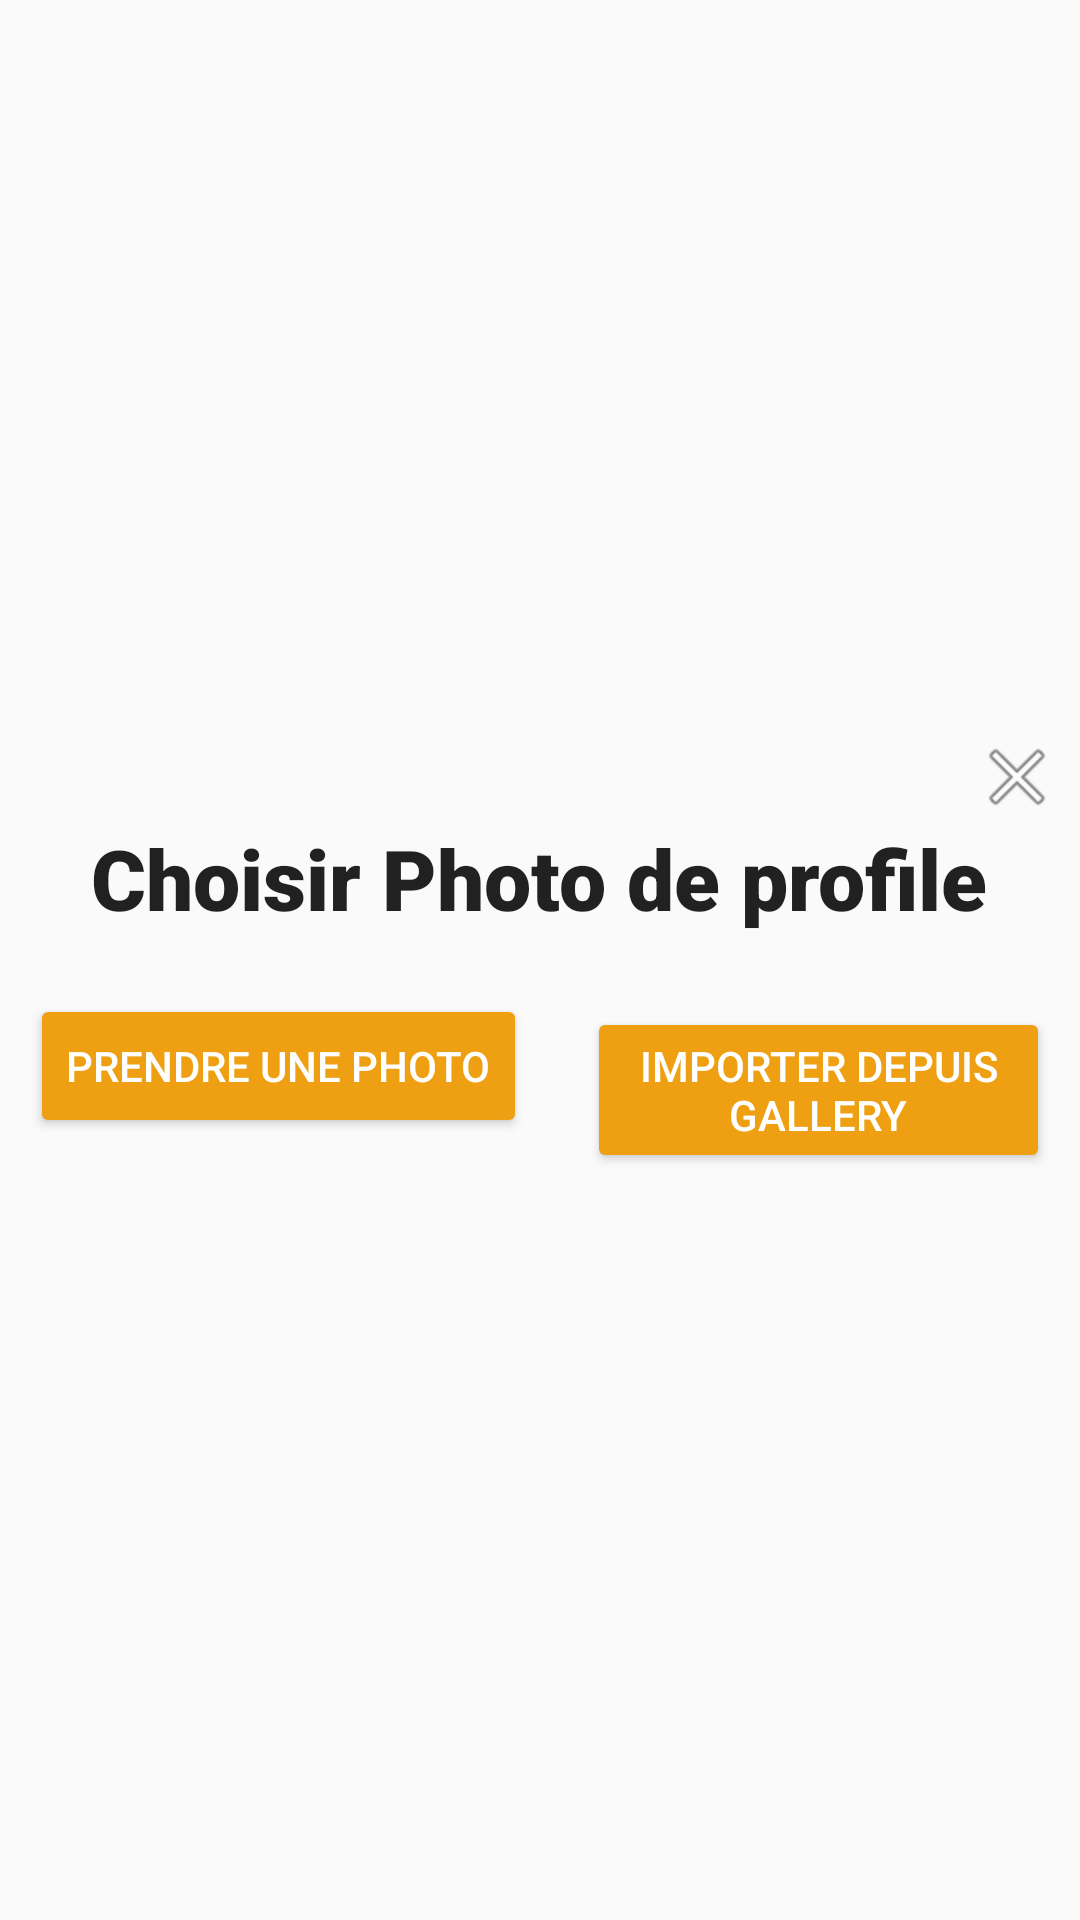

Where icons sit on this 1080px×1920px app screen, as BBox(x1, y1, x2, y2):
close clear cancel: BBox(989, 749, 1045, 805)
